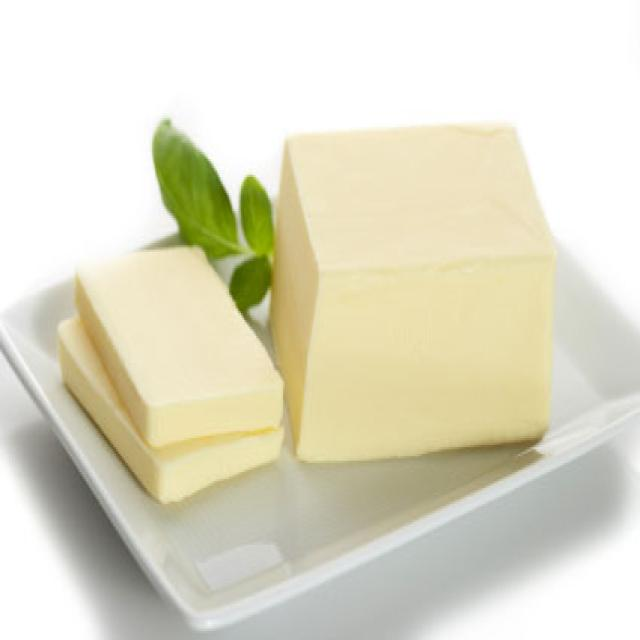Butter: (264, 127, 557, 456), (54, 295, 285, 511), (75, 238, 280, 424)
